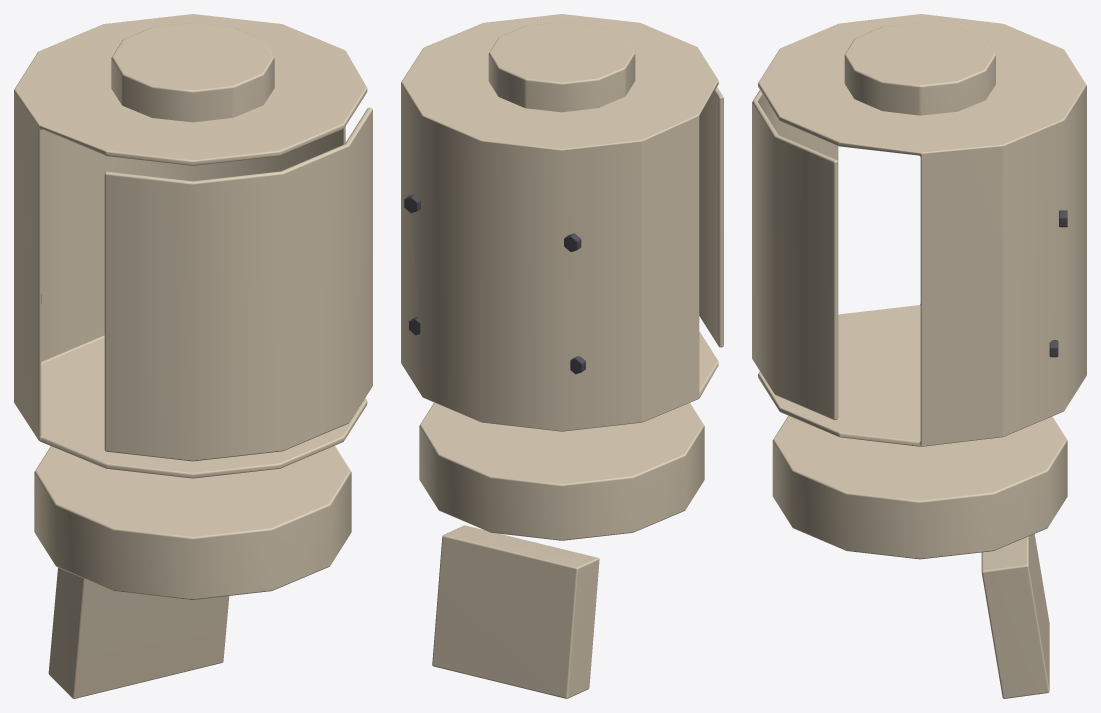
Rendered from kitbash_shell_body_001.glb.
3 renders of one model, left to right at view 1: azimuth 30°, elevation 25°; view 2: azimuth 150°, elevation 25°; view 3: azimuth 270°, elevation 25°, orthographic. The views are drawn at different scales.
Parts seen in each view (by area): view 1: SHELL_body; view 2: SHELL_body; view 3: SHELL_body.
Boxes of the visible parts, box(x1,y1,x2,y2) form: SHELL_body: box(14, 14, 372, 698); SHELL_body: box(401, 14, 723, 698); SHELL_body: box(752, 14, 1086, 698).
Bounding box in the file's own units: 0.6904 × 1.41 × 0.7011.
